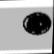correct: (21, 10, 54, 42)
